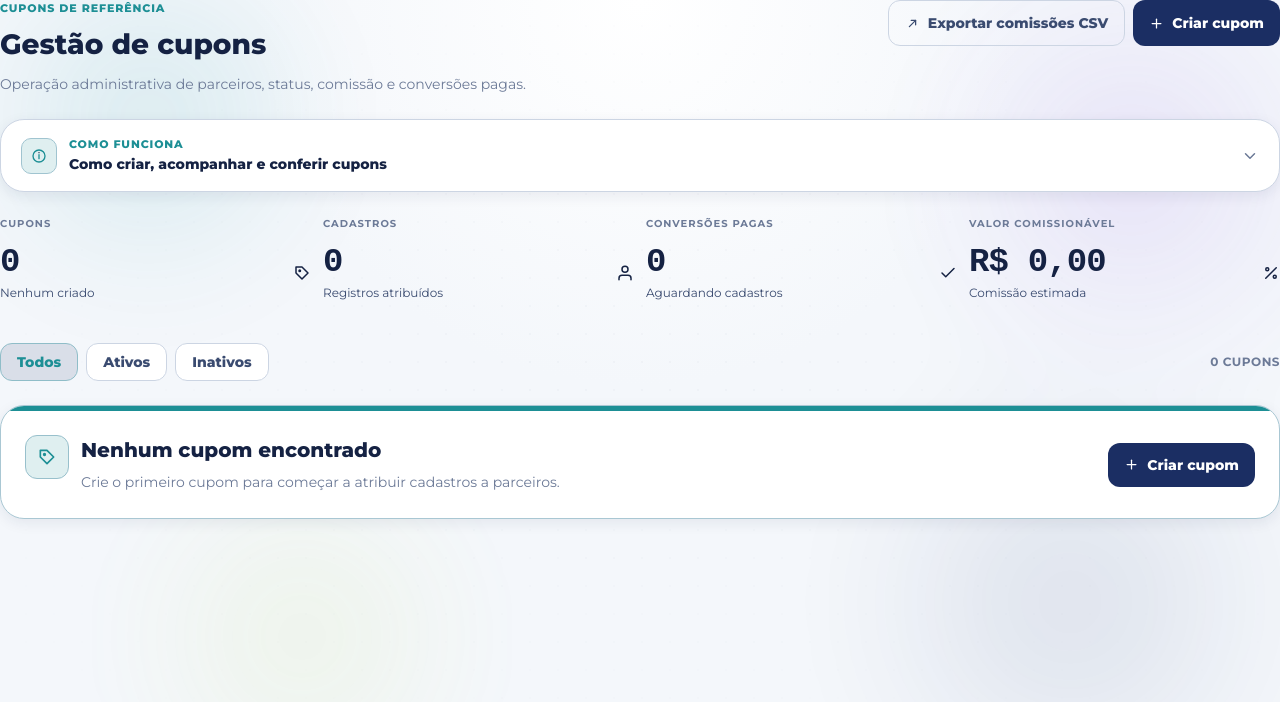
it: Admin coupon pages › /admin/cupons renderiza lista vazia com CTA para criar cupom
The image size is (1280, 702).
Expected: the heading "Gestão de cupons" is shown, [0,26,266,60]
Click the heading "Como funciona" at (39, 156), box [21,137,1259,174]
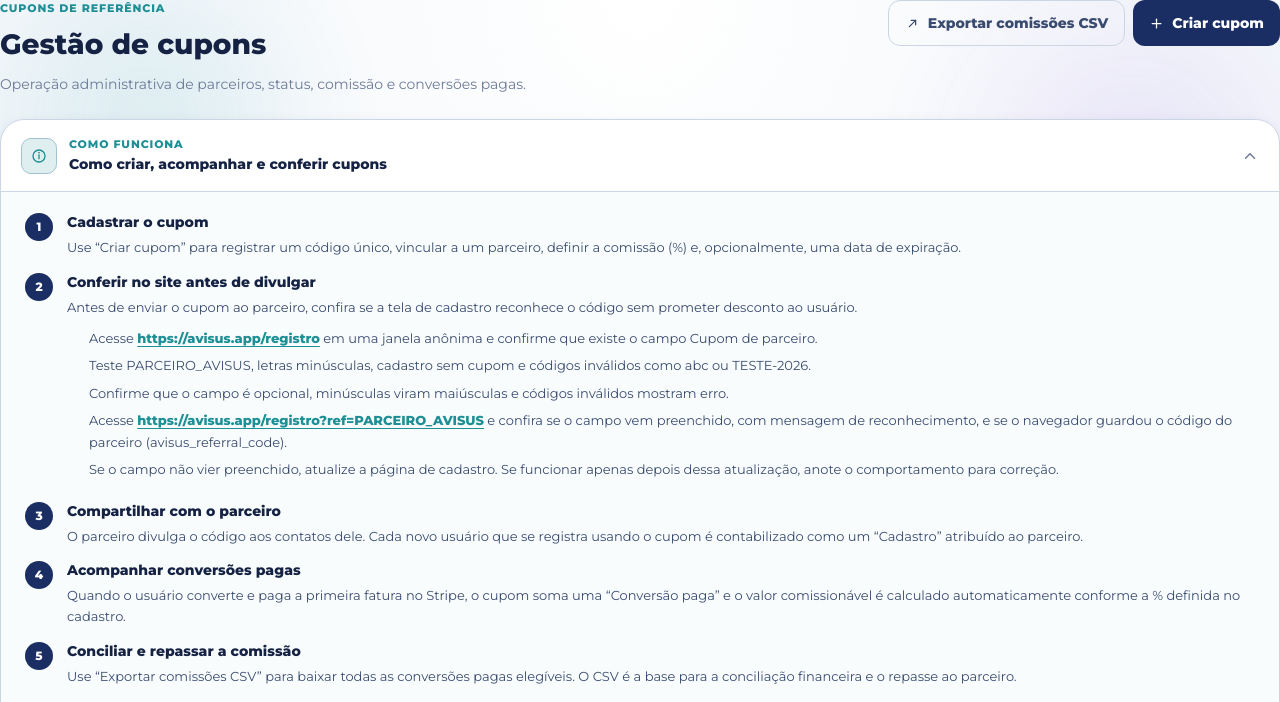
Result: the text "Conferir no site antes de divulgar" is shown at [67,273,316,291]
Result: the list item "avisus_referral_code" is shown at [89,412,1232,450]
